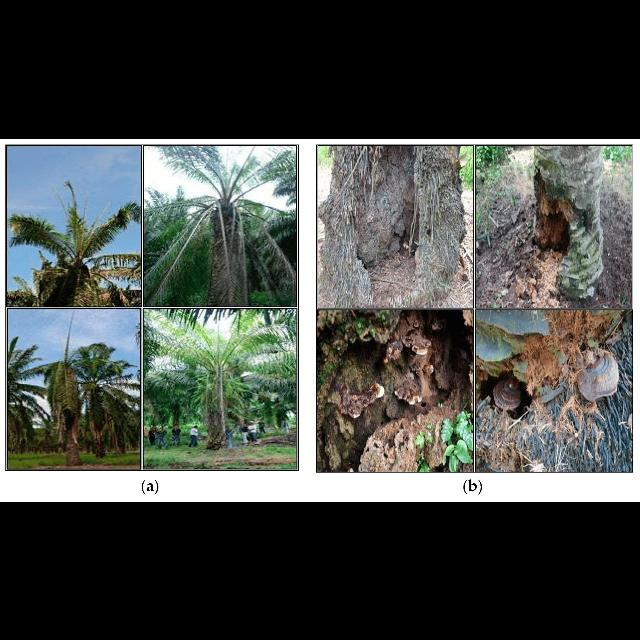ganoderma: (578, 350, 623, 405), (338, 386, 372, 420), (492, 379, 524, 413), (404, 330, 434, 356), (395, 382, 425, 406)
primordium: (372, 382, 386, 400)
